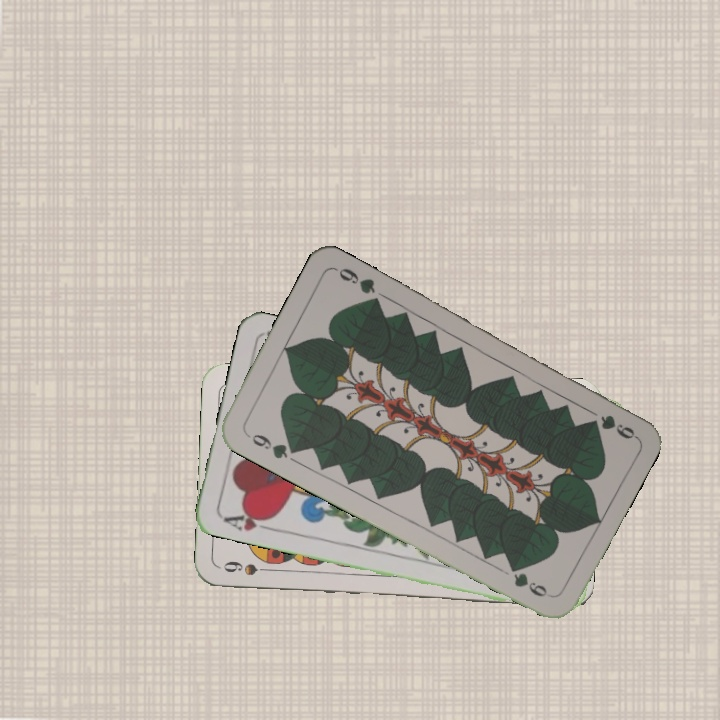G9: (242, 429, 301, 462), (596, 411, 638, 442)
HA: (219, 506, 278, 534)
S9: (219, 556, 278, 578)
